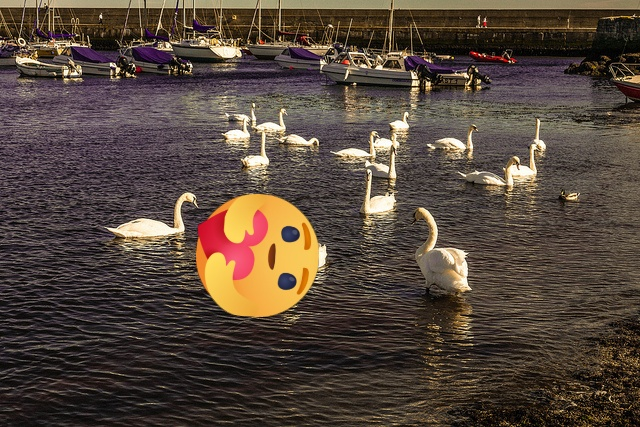care: (196, 194, 319, 317)
